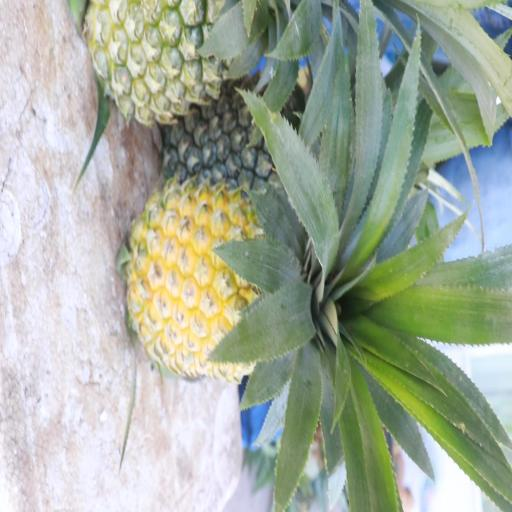------------------------------: (80, 0, 256, 114)
